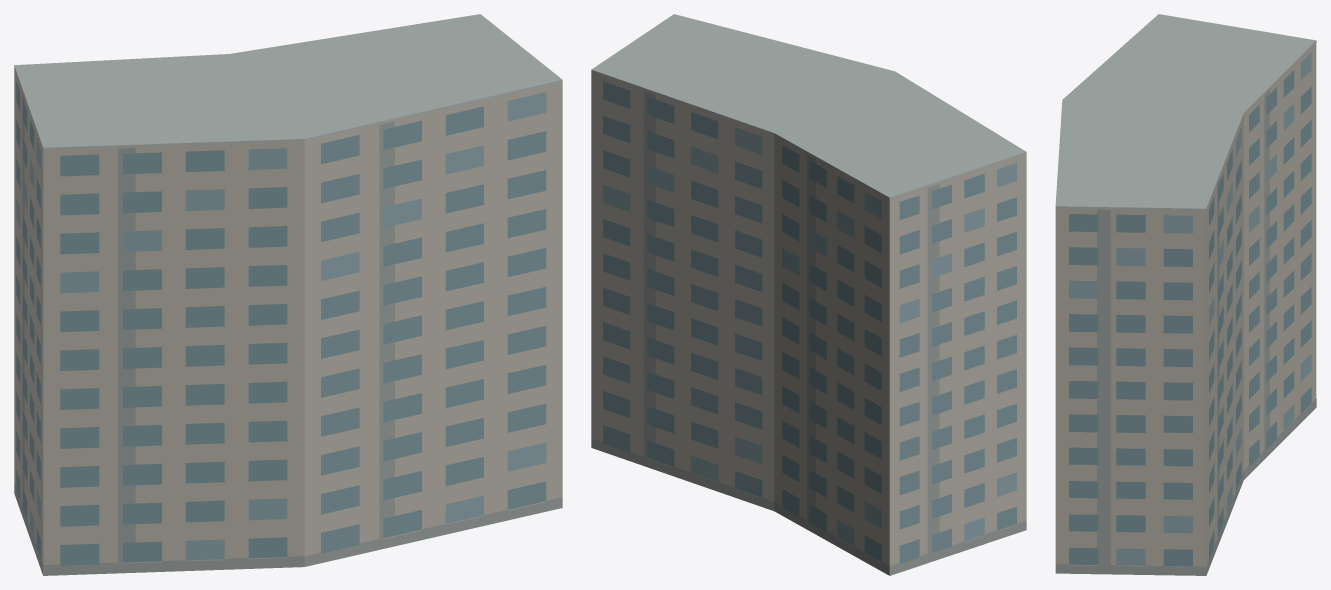
The model's file is residential-fcb0bc7b-677d-4398-bb86-0dde21b03b63.glb.
3 renders of one model, left to right at view 1: azimuth 30°, elevation 25°; view 2: azimuth 150°, elevation 25°; view 3: azimuth 270°, elevation 25°, orthographic. The views are drawn at different scales.
Parts seen in each view (by area): view 1: residential-fcb0bc7b-677d-4398-bb86-0dde21b03b63.tmp; view 2: residential-fcb0bc7b-677d-4398-bb86-0dde21b03b63.tmp; view 3: residential-fcb0bc7b-677d-4398-bb86-0dde21b03b63.tmp.
Boxes of the visible parts, box(x1,y1,x2,y2) form: residential-fcb0bc7b-677d-4398-bb86-0dde21b03b63.tmp: box(14, 14, 562, 575); residential-fcb0bc7b-677d-4398-bb86-0dde21b03b63.tmp: box(591, 14, 1026, 575); residential-fcb0bc7b-677d-4398-bb86-0dde21b03b63.tmp: box(1055, 14, 1316, 575).
Bounding box in the file's own units: 36.39 × 32 × 20.62.
